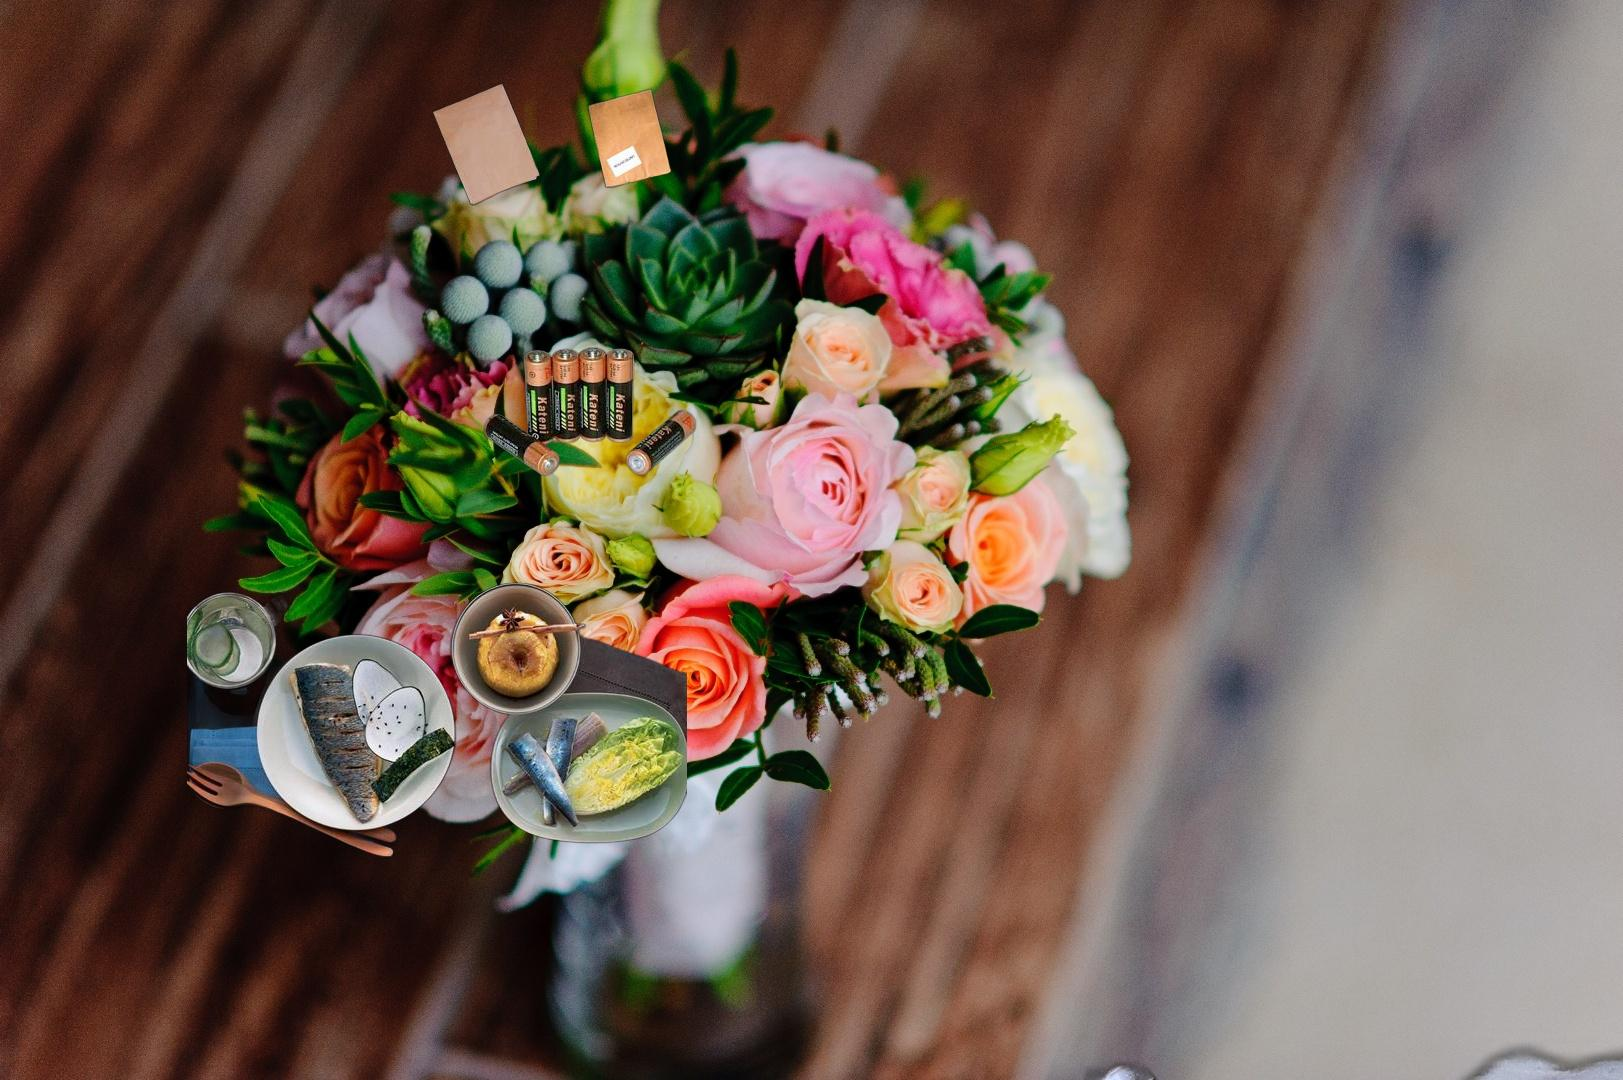battery: (481, 345, 699, 479)
biological: (187, 581, 687, 859)
paper-bag: (416, 0, 694, 225)
plastic-bottles: (987, 838, 1415, 1080)
trashbox-cardboard: (959, 1017, 1623, 1080)
